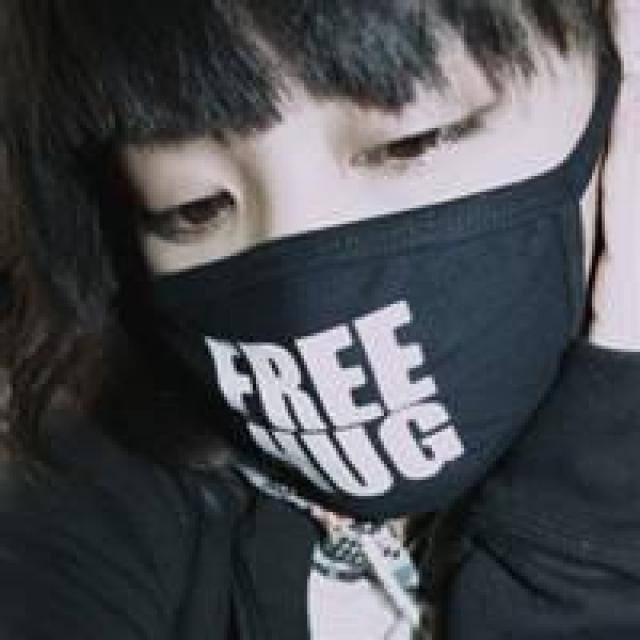mask: (128, 3, 576, 496)
